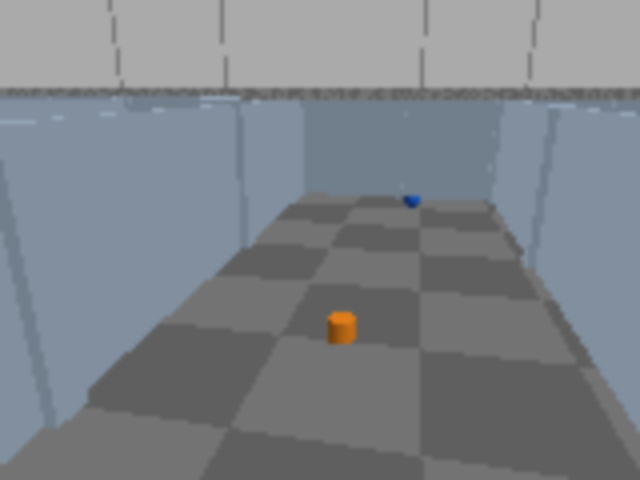puck: (329, 313, 354, 345), (404, 193, 421, 210)
